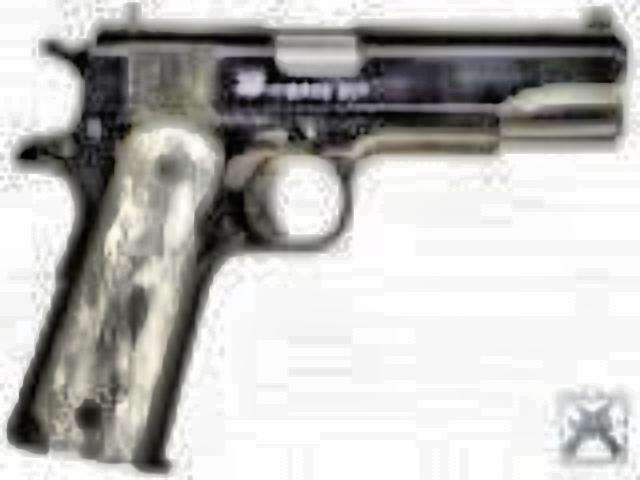pistol: (8, 0, 624, 460)
